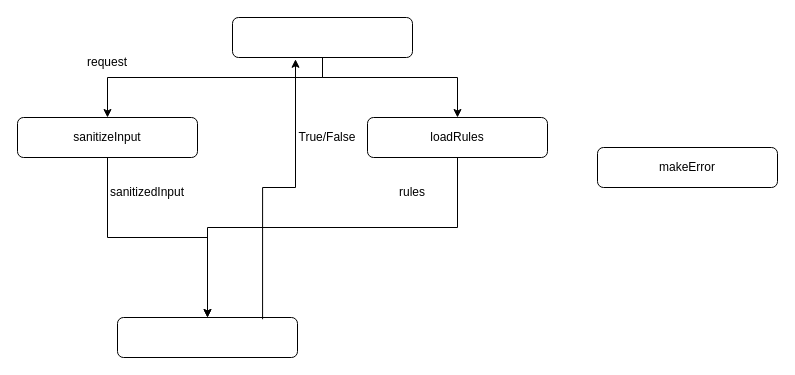
Image size: 795x375. Some labels were removed from this diagram. Each missing label, with the centre of its shape:
"check" belongs at (x=207, y=337).
"Request Validator" belongs at (x=322, y=37).
